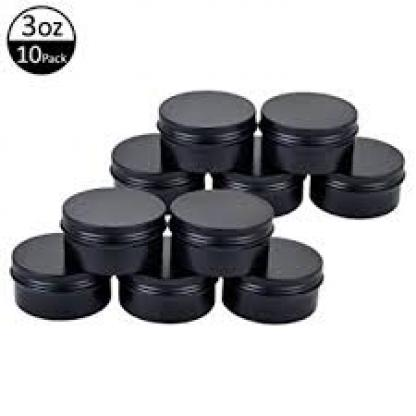Compsot: (59, 188, 165, 276), (9, 233, 109, 320), (172, 192, 272, 278), (222, 236, 322, 322), (259, 90, 357, 174), (118, 236, 213, 322), (155, 89, 255, 170), (309, 135, 403, 216), (211, 133, 301, 216), (109, 133, 203, 198)
